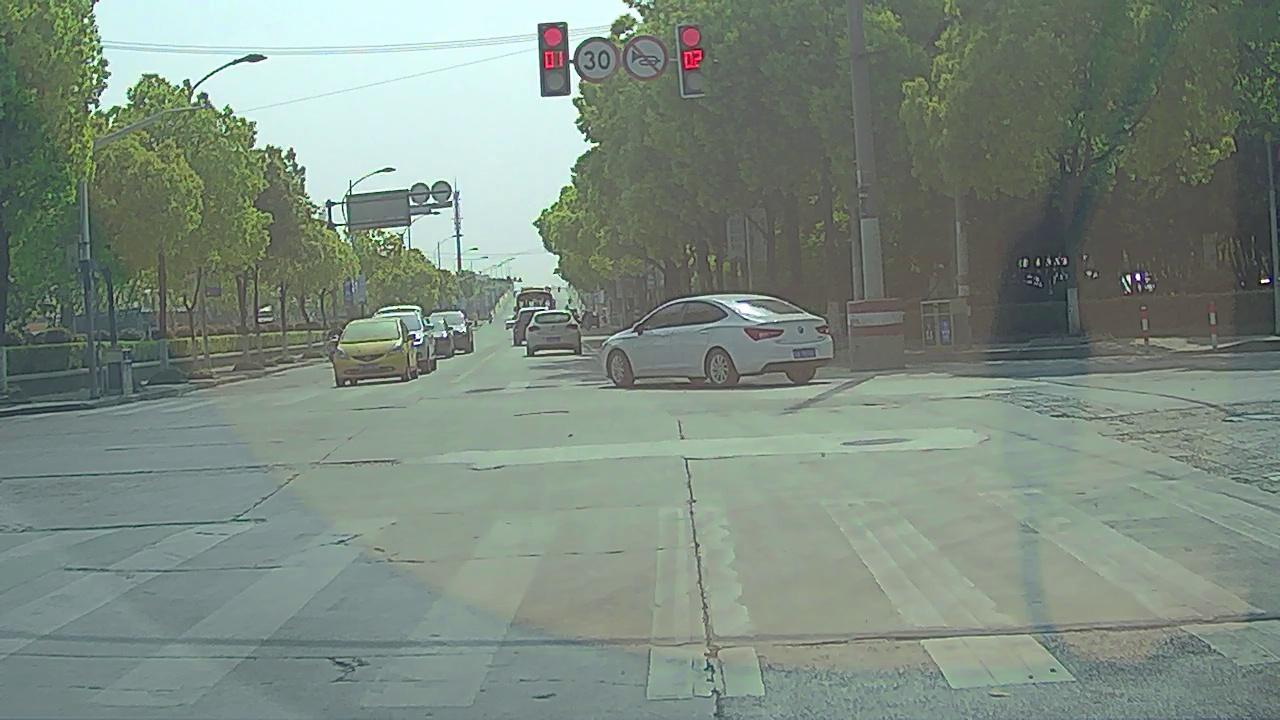traffic_light: (675, 24, 711, 97), (539, 21, 569, 94)
